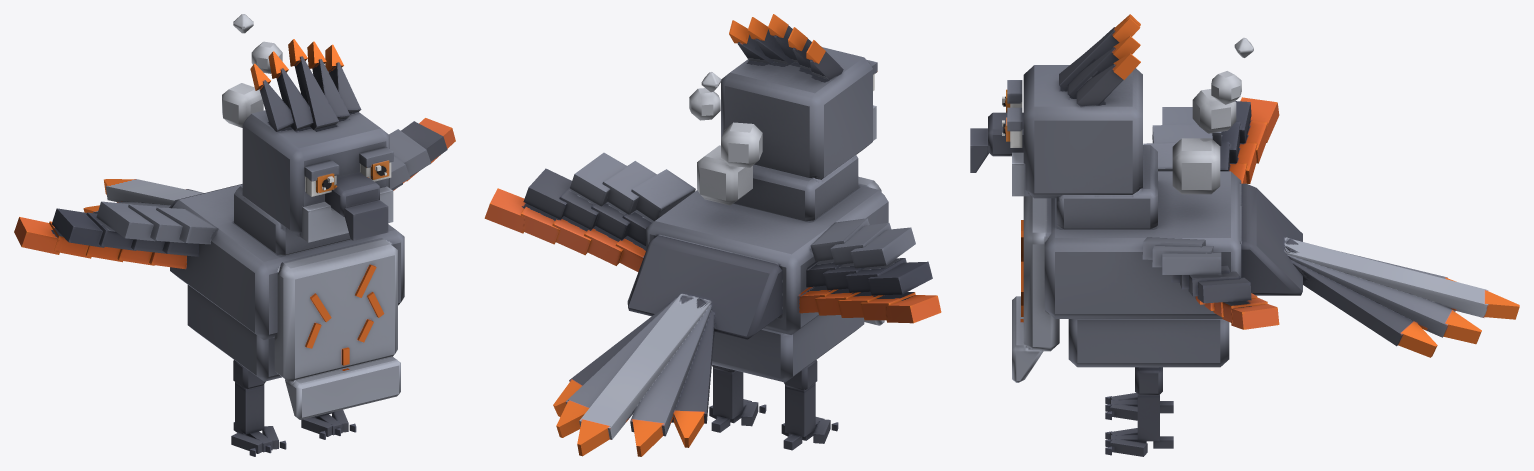
Rendered from PhenixCendres_Rig.fbx.
The picture shows the model from 3 angles, left to right: view 1: azimuth 30°, elevation 25°; view 2: azimuth 150°, elevation 25°; view 3: azimuth 270°, elevation 25°; orthographic projection. The views are drawn at different scales.
Parts seen in each view (by area): view 1: Body, Head, WingR, LegR, WingL, Smoke, Tail, LegL; view 2: Body, Head, Tail, WingL, WingR, Smoke, LegR, LegL; view 3: Body, Head, Tail, WingL, WingR, Smoke, LegL, LegR.
Boxes of the visible parts, <box> form: Body: <box>169,184,404,419</box>; Head: <box>242,39,393,242</box>; WingR: <box>14,201,218,269</box>; LegR: <box>231,360,286,456</box>; WingL: <box>389,118,455,190</box>; Smoke: <box>222,14,282,127</box>; Tail: <box>83,179,203,213</box>; LegL: <box>301,409,356,439</box>; Body: <box>627,155,888,382</box>; Head: <box>721,14,877,179</box>; Tail: <box>553,293,714,456</box>; WingL: <box>484,152,695,271</box>; WingR: <box>797,218,941,323</box>; Smoke: <box>689,72,762,205</box>; LegR: <box>781,360,838,450</box>; LegL: <box>709,365,766,432</box>; Body: <box>1012,145,1302,382</box>; Head: <box>970,14,1142,198</box>; Tail: <box>1284,237,1519,357</box>; WingL: <box>1142,237,1279,329</box>; WingR: <box>1143,97,1279,183</box>; Smoke: <box>1172,37,1253,194</box>; LegL: <box>1105,367,1173,456</box>; LegR: <box>1105,393,1173,420</box>.
Bounding box in the file's own units: 6.87 × 6 × 7.28.
1 material, 1 textured.
